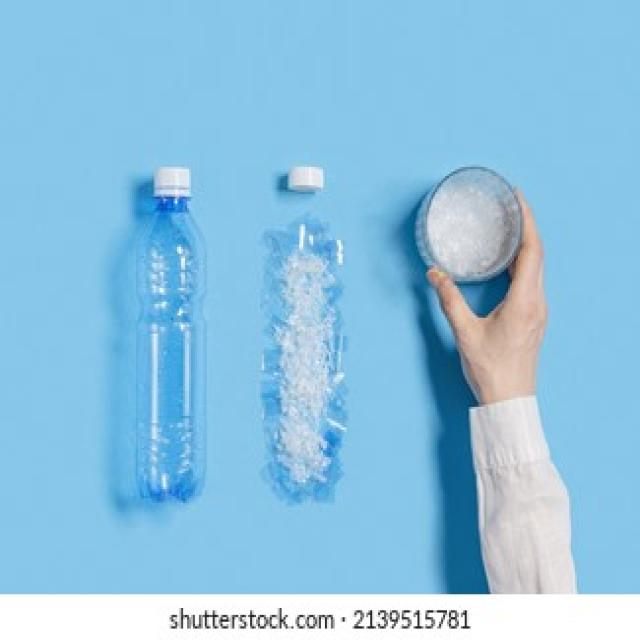glass: (266, 251, 344, 455)
plastic: (117, 151, 230, 523), (282, 158, 331, 203)
